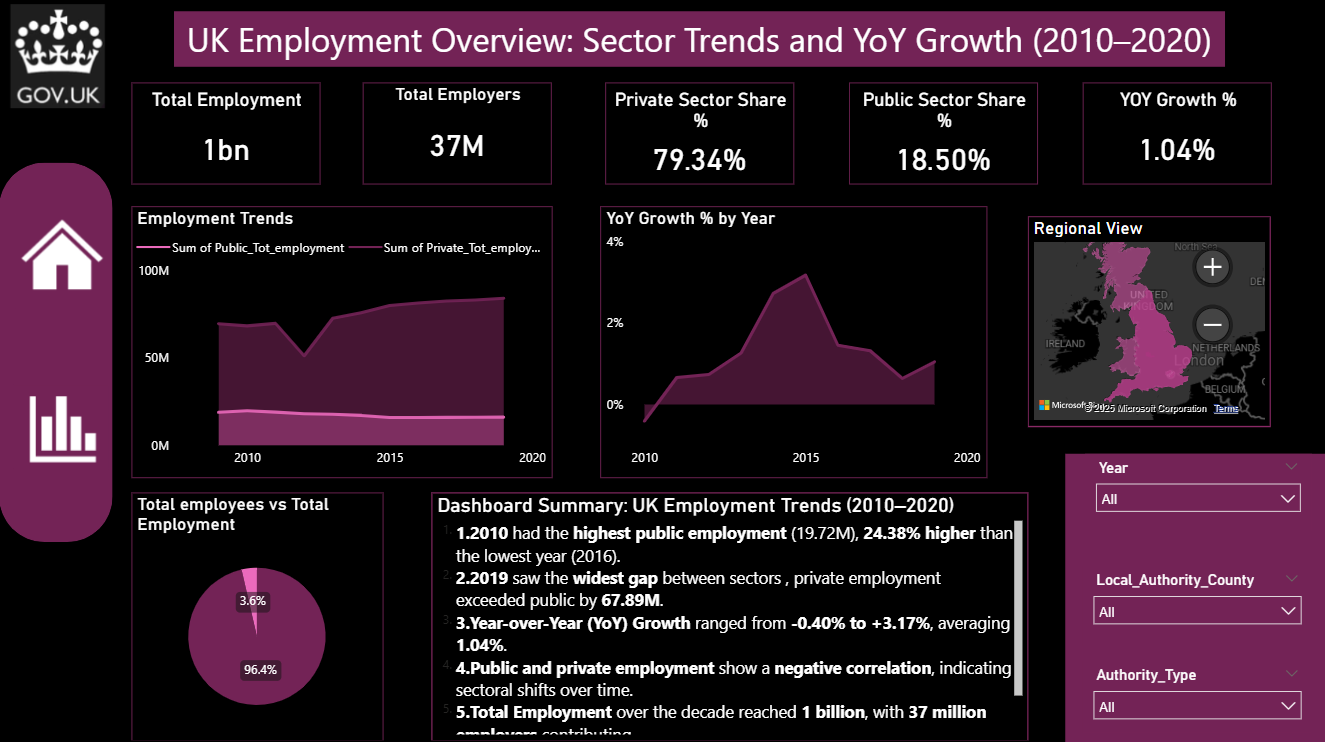

The page's visual inventory and layout, read from the dashboard file:
{"tool":"powerbi","page":{"name":"Employment overview","canvas":[1280,720],"ordinal":0},"visuals":[{"type":"shape","box":[0,156.4,109.8,366.4],"z":0},{"type":"actionButton","title":"Hone","box":[12.3,199,100.2,107],"z":1000},{"type":"actionButton","box":[9.6,359.5,100.2,104.3],"z":2000},{"type":"textbox","box":[168.8,11,1014.1,53.5],"z":3000},{"type":"shape","box":[112.5,79.6,881,97.4],"z":4000},{"type":"card","title":"Total Employment","fields":{"Values":["python_employment_data.Total Employment"]},"box":[127.6,79.6,182.5,98.8],"z":5000},{"type":"card","title":"Public Sector Share %","fields":{"Values":["python_employment_data.Public Sector Share %"]},"box":[820.6,79.6,182.5,98.8],"z":6000},{"type":"card","title":"YOY Growth %","fields":{"Values":["python_employment_data.YoY Growth %"]},"box":[1045.6,79.6,182.5,98.8],"z":7000},{"type":"card","title":"Private Sector Share %","fields":{"Values":["python_employment_data.Private Sector Share %"]},"box":[584.6,79.6,182.5,98.8],"z":8000},{"type":"shape","title":"Slicer","box":[1029.2,437.7,251.1,282.7],"z":9000},{"type":"slicer","fields":{"Values":["python_employment_data.Year"]},"box":[1048.4,437.7,218.2,74.1],"z":10000},{"type":"slicer","fields":{"Values":["python_employment_data.Local_Authority_County"]},"box":[1045.6,546.1,220.9,76.8],"z":11000},{"type":"slicer","fields":{"Values":["python_employment_data.Authority_Type"]},"box":[1045.6,638.1,220.9,68.6],"z":12000},{"type":"lineChart","title":"Employment Trends","fields":{"Category":["python_employment_data.Year"],"Y":["Sum(python_employment_data.Public_Tot_employment)","Sum(python_employment_data.Private_Tot_employment)"]},"box":[127.6,199,406.2,262.1],"z":13000},{"type":"actionButton","box":[0,0,112.5,108.4],"z":14000},{"type":"filledMap","title":"Regional View","fields":{"Category":["python_employment_data.Local_Authority_County"],"Series":["python_employment_data.Authority_Type"]},"box":[993.5,208.6,234.6,203.1],"z":15000},{"type":"card","title":"Total Employers","fields":{"Values":["python_employment_data.Total Employers"]},"box":[351.3,79.6,182.5,98.8],"z":18000},{"type":"pieChart","title":"Total employees vs Total Employment","fields":{"Y":["Sum(python_employment_data.Total_Tot_employees)","python_employment_data.Total Employers"]},"box":[127.6,474.8,242.9,240.1],"z":19000},{"type":"lineChart","fields":{"Y":["python_employment_data.YoY Growth %"],"Category":["python_employment_data.Year"]},"box":[580.4,199,373.2,262.1],"z":20000},{"type":"textbox","title":"Dashboard Summary: UK Employment Trends (2010–2020)","box":[417.2,474.8,576.3,240.1],"z":20001}]}

Visuals, with their boxes in screenshot pixels (x1, y1, x2, y2), scaled from the page's 1280x720 canvas onto the 1325x742 screenshot:
shape: <bbox>0, 161, 114, 539</bbox>
"Hone" actionButton: <bbox>13, 205, 116, 315</bbox>
actionButton: <bbox>10, 370, 114, 478</bbox>
textbox: <bbox>175, 11, 1224, 66</bbox>
shape: <bbox>116, 82, 1028, 182</bbox>
"Total Employment" card: <bbox>132, 82, 321, 184</bbox>
"Public Sector Share %" card: <bbox>849, 82, 1038, 184</bbox>
"YOY Growth %" card: <bbox>1082, 82, 1271, 184</bbox>
"Private Sector Share %" card: <bbox>605, 82, 794, 184</bbox>
"Slicer" shape: <bbox>1065, 451, 1324, 741</bbox>
slicer - python_employment_data.Year: <bbox>1085, 451, 1311, 527</bbox>
slicer - python_employment_data.Local_Authority_County: <bbox>1082, 563, 1311, 642</bbox>
slicer - python_employment_data.Authority_Type: <bbox>1082, 658, 1311, 728</bbox>
"Employment Trends" lineChart: <bbox>132, 205, 553, 475</bbox>
actionButton: <bbox>0, 0, 116, 112</bbox>
"Regional View" filledMap: <bbox>1028, 215, 1271, 424</bbox>
"Total Employers" card: <bbox>364, 82, 553, 184</bbox>
"Total employees vs Total Employment" pieChart: <bbox>132, 489, 384, 737</bbox>
lineChart - python_employment_data.YoY Growth % x python_employment_data.Year: <bbox>601, 205, 987, 475</bbox>
"Dashboard Summary: UK Employment Trends (2010–2020)" textbox: <bbox>432, 489, 1028, 737</bbox>
